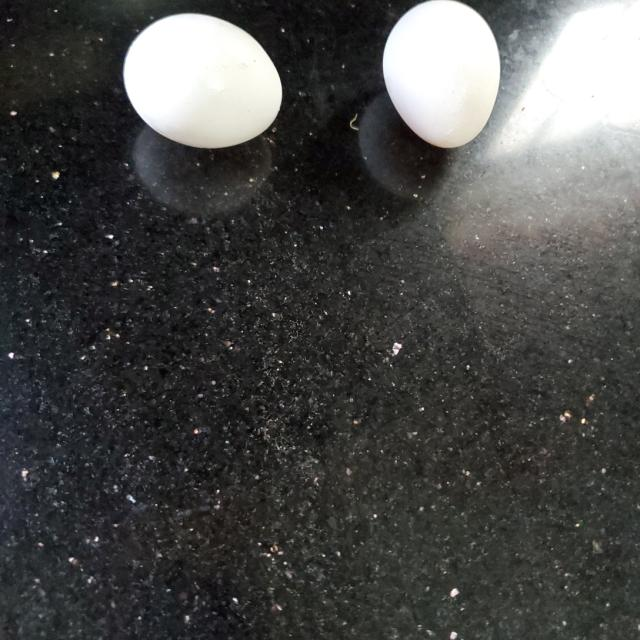egg: (117, 14, 282, 153), (382, 0, 504, 154)
